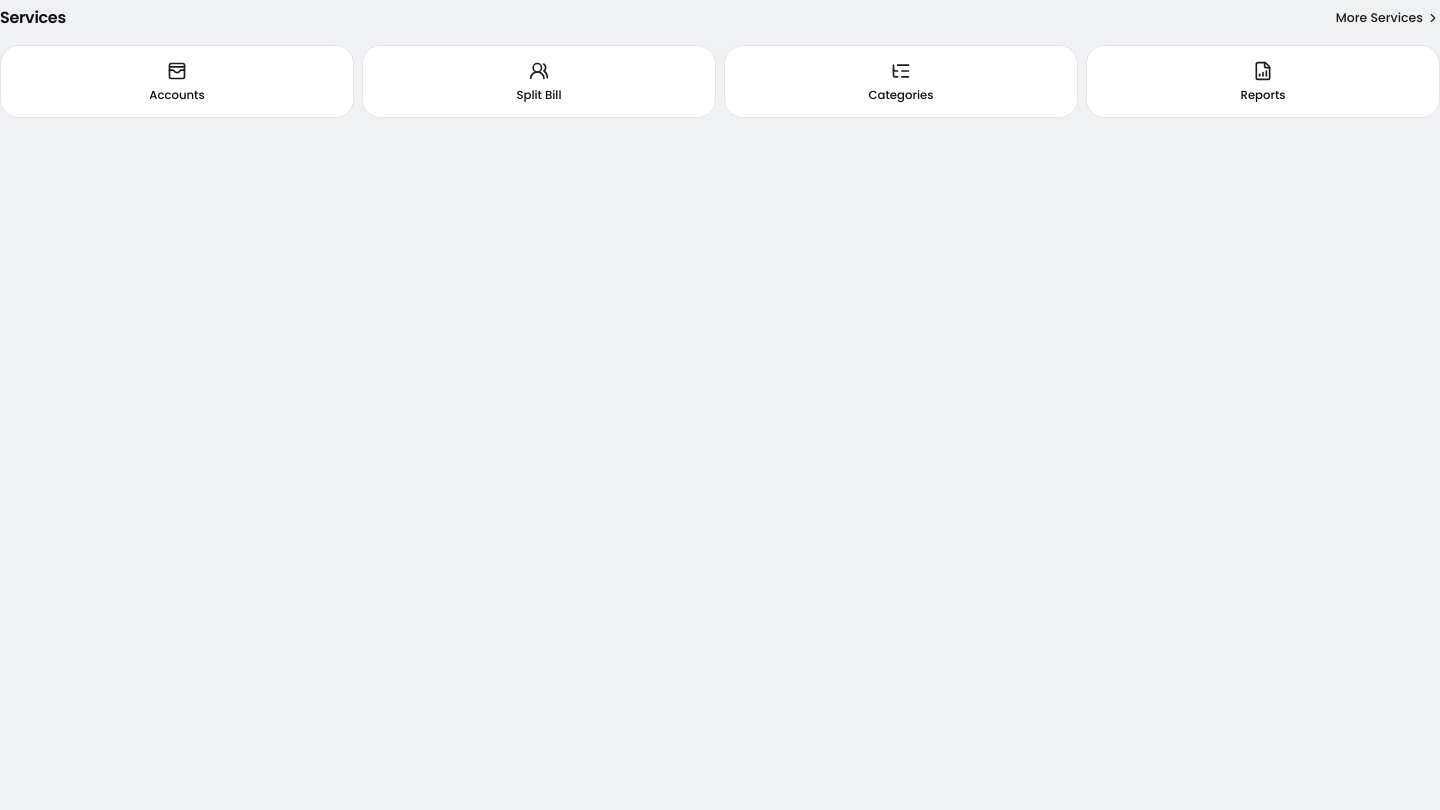
Test: ServicesSection › lists every service in the More Services modal as pages or sheets
Step 1. Click the button "More Services" → (1388, 18), box [1336, 0, 1439, 36]
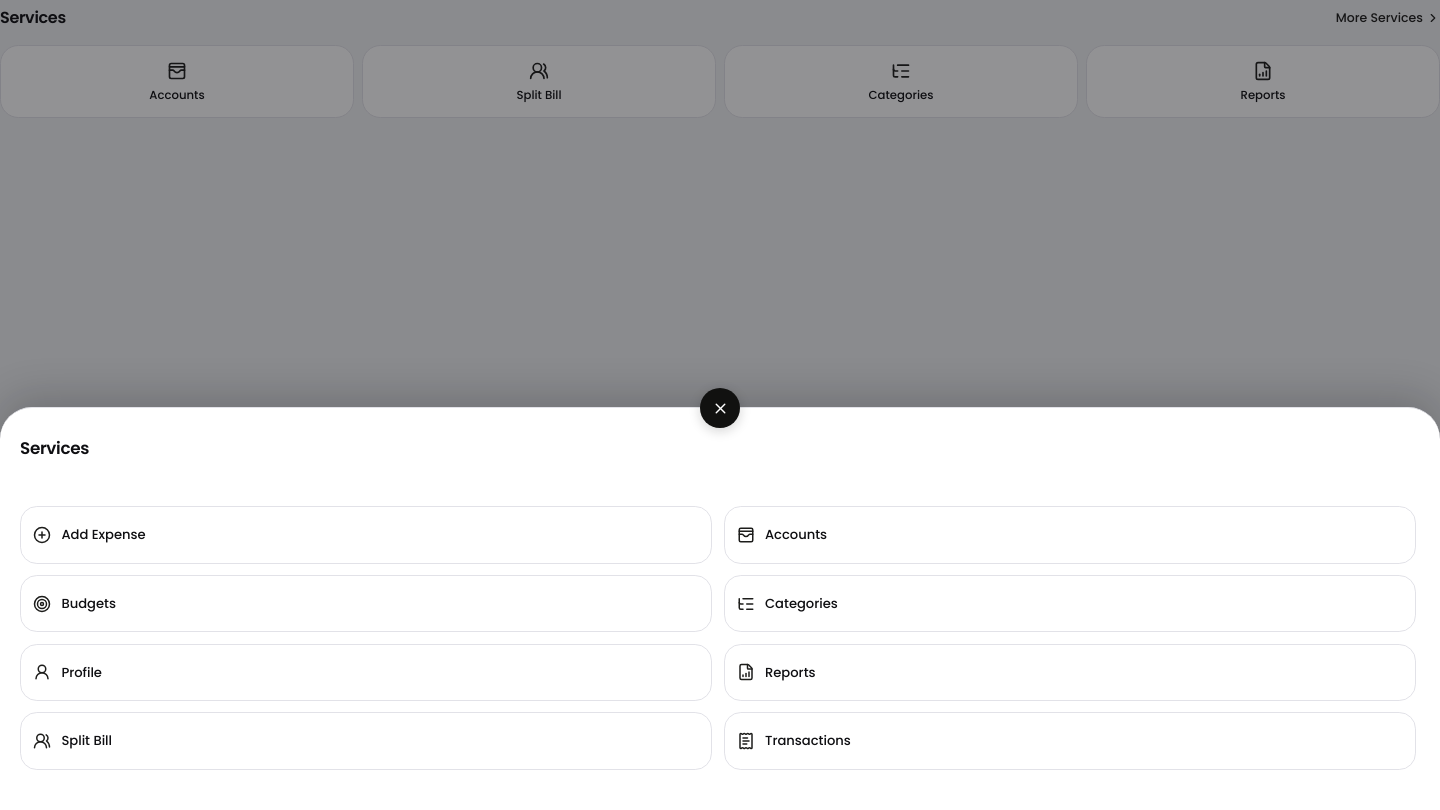
Expected: the dialog "Services" is shown
Expected: the button "Add Expense" is shown, [20, 506, 712, 564]
Expected: the button "Profile" is shown, [20, 644, 712, 701]
